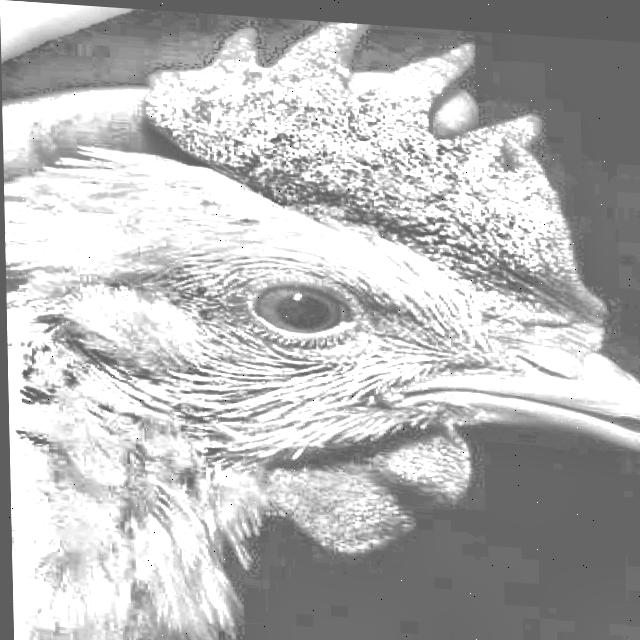Newcastle: (4, 0, 640, 640)
